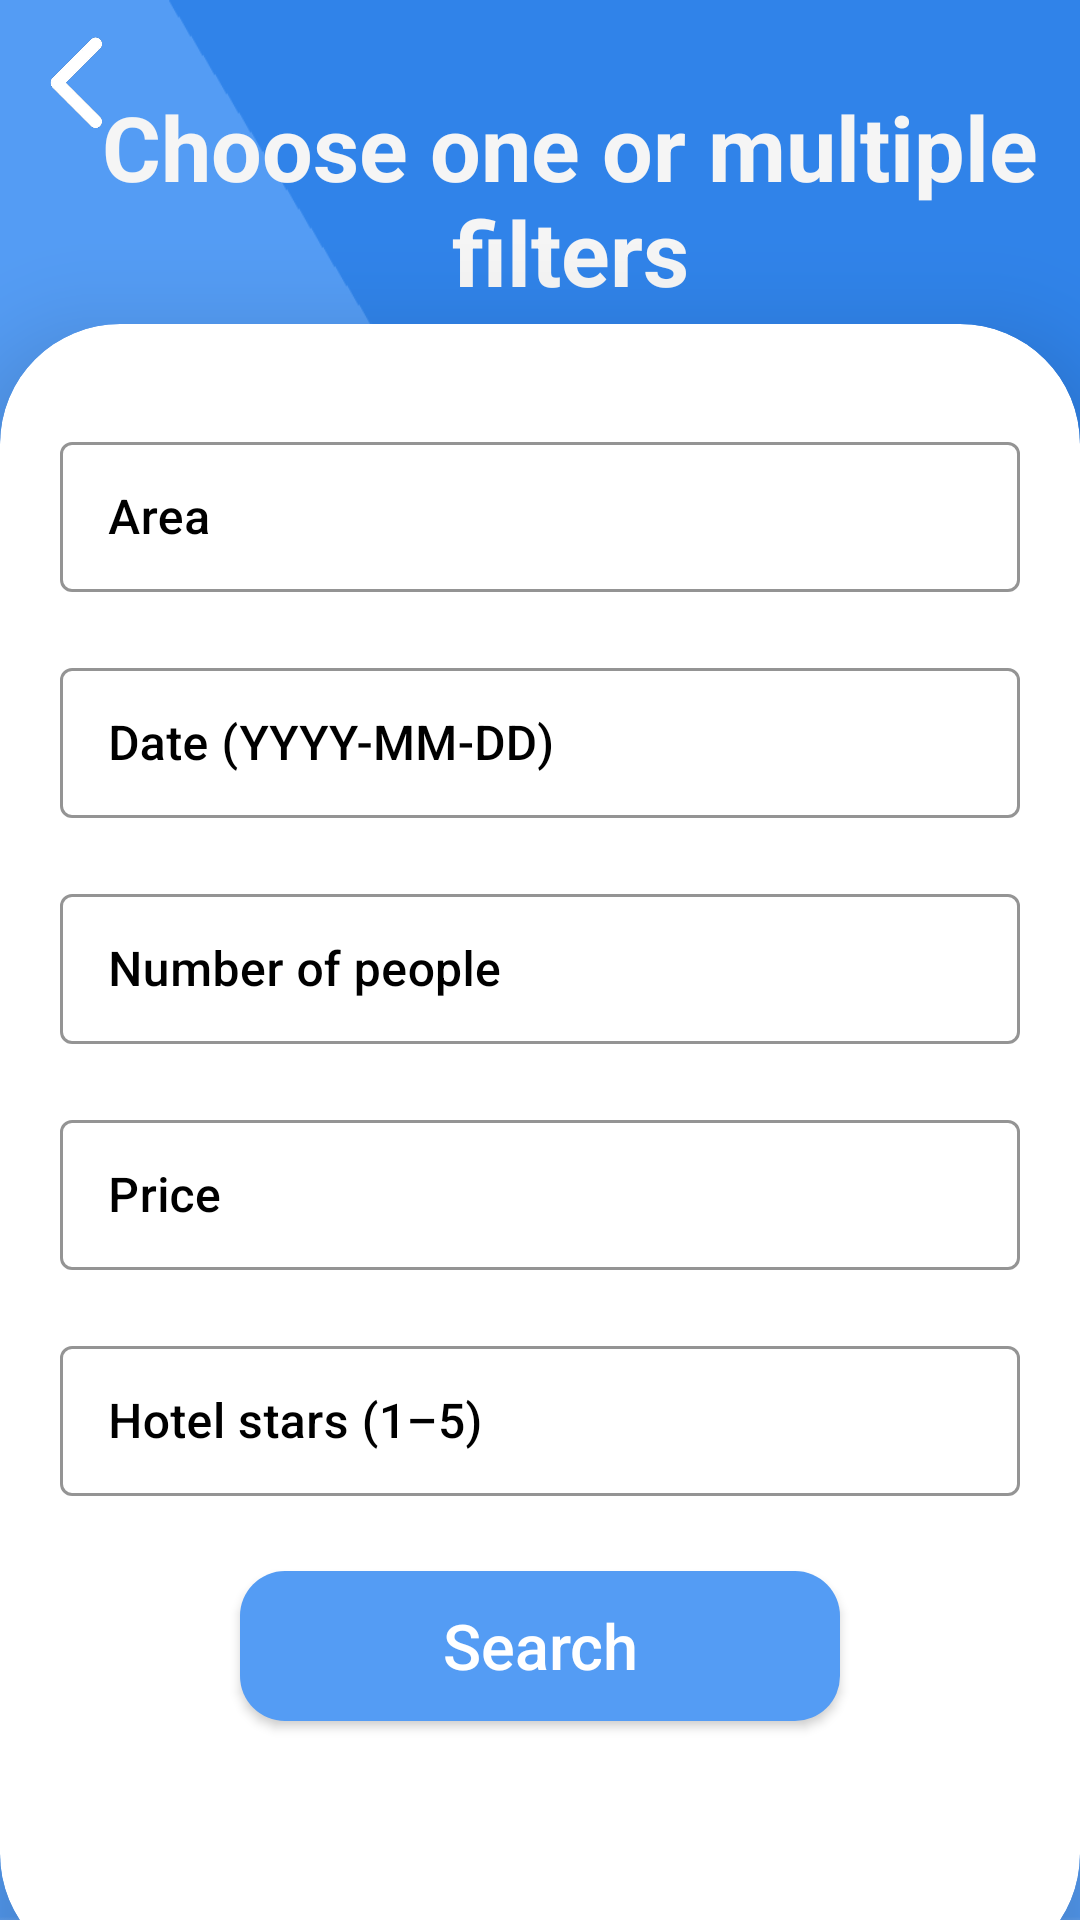

Icon bounding boxes for this 1080px x 1920px phone screenshot, format [x1,y1,x2,y2]:
back: [51,37,102,128]
